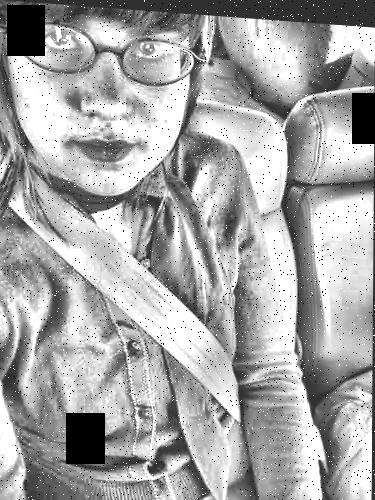seatbelt: (40, 176, 253, 407)
